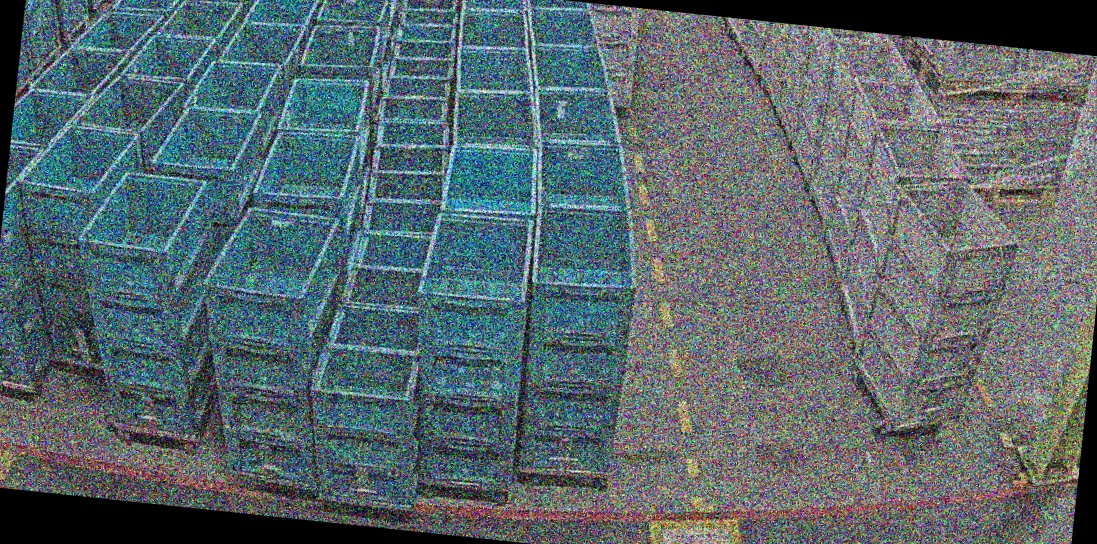4G: (843, 171, 1026, 443)
B4: (58, 167, 238, 442), (182, 204, 350, 491), (396, 210, 539, 492), (509, 201, 644, 479), (0, 120, 147, 369)
B8: (299, 299, 435, 512)
